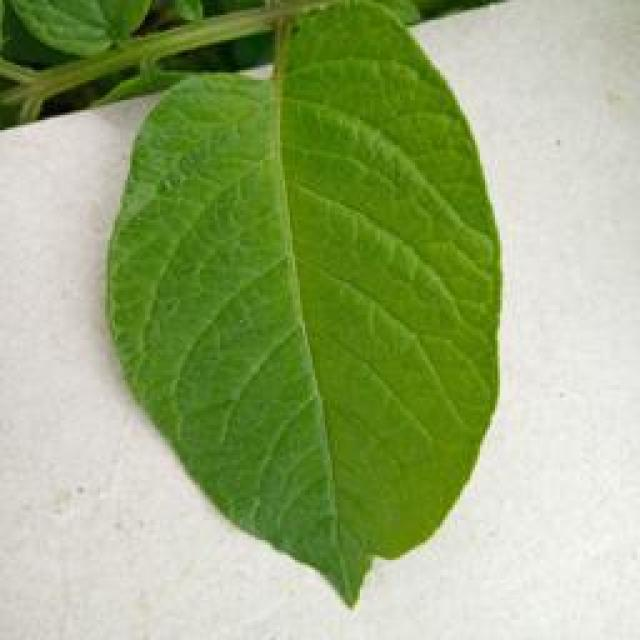healthy: (98, 0, 508, 610)
